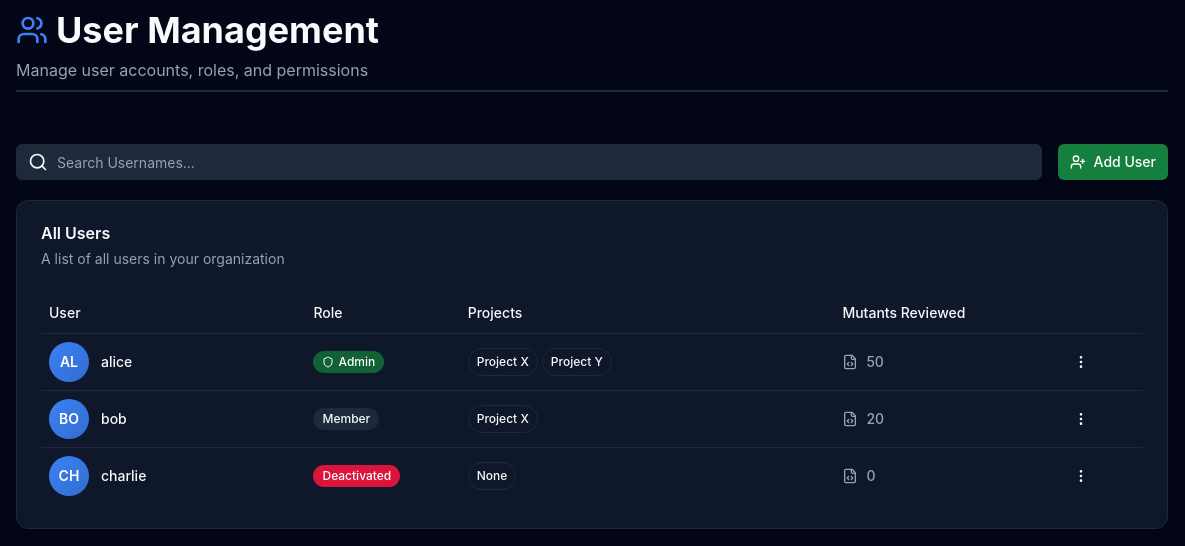
UserManagement › filters displayed users by search input
Type "char" into the search field named "Search users" at (529,162), box [16,144,1042,180]
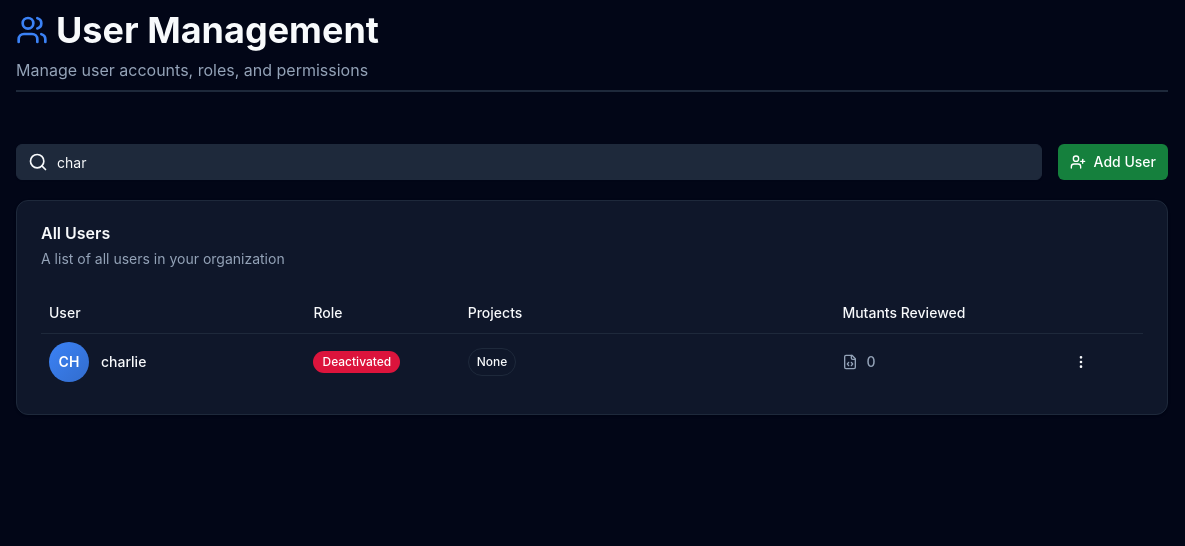
expect the text "charlie" is shown: met, box [101,352,146,372]
expect the text "alice" is gone: met
expect the text "bob" is gone: met
